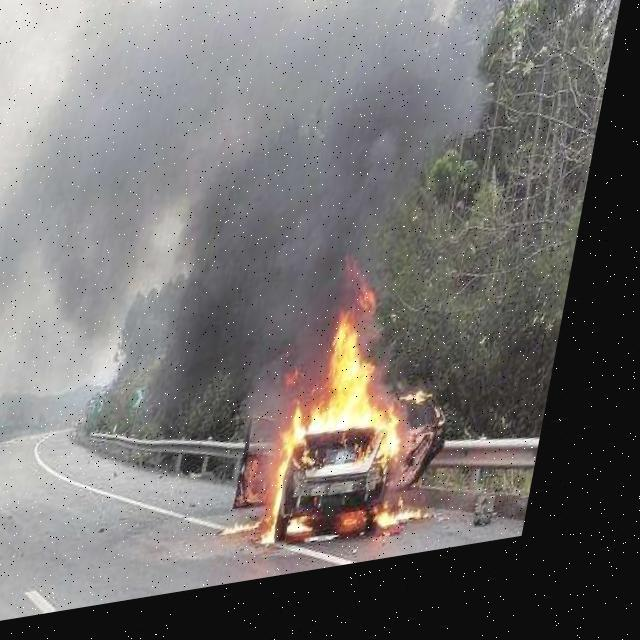Fire: (272, 290, 482, 572)
